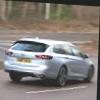License_Plate: (19, 58, 31, 62)
